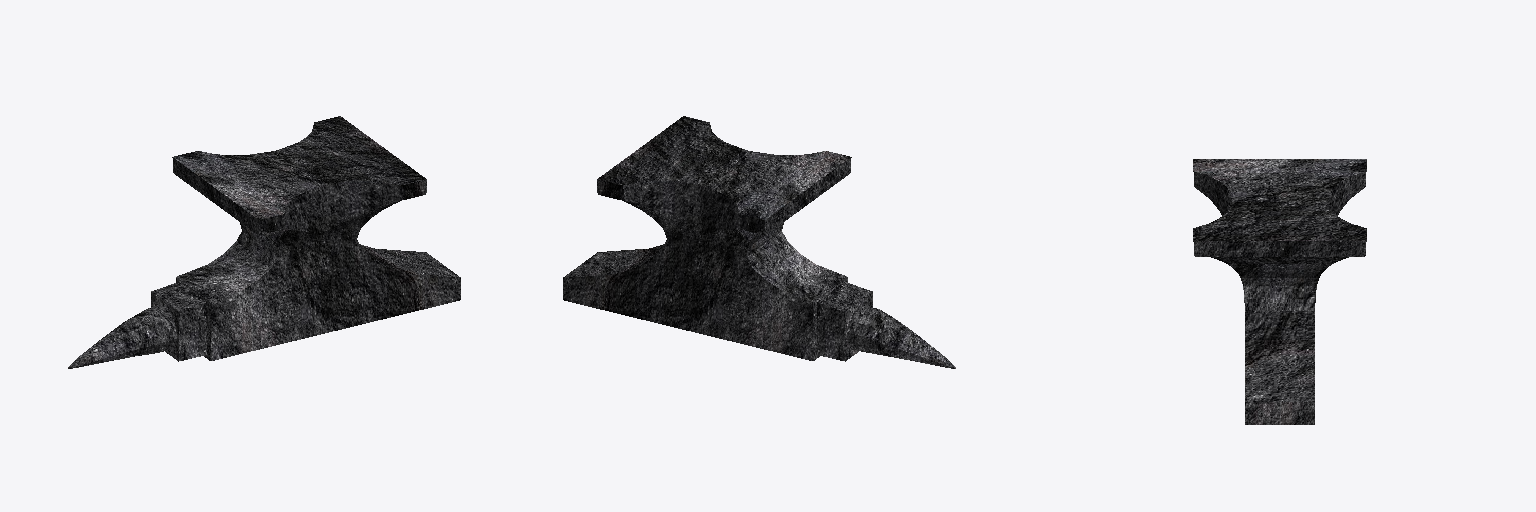
The picture shows the model from 3 angles: view 1: azimuth 30°, elevation 25°; view 2: azimuth 150°, elevation 25°; view 3: azimuth 270°, elevation 25°; orthographic projection.
Visible parts, largest first — view 1: Player; view 2: Player; view 3: Player.
Part boxes in pixels (x1,y1,x2,y2): Player: (68, 116, 460, 368); Player: (563, 116, 955, 368); Player: (1193, 159, 1366, 424).
Size of the model in its own units: 5.31 by 2.09 by 2.12.
Materials: 1 (1 with a texture image).